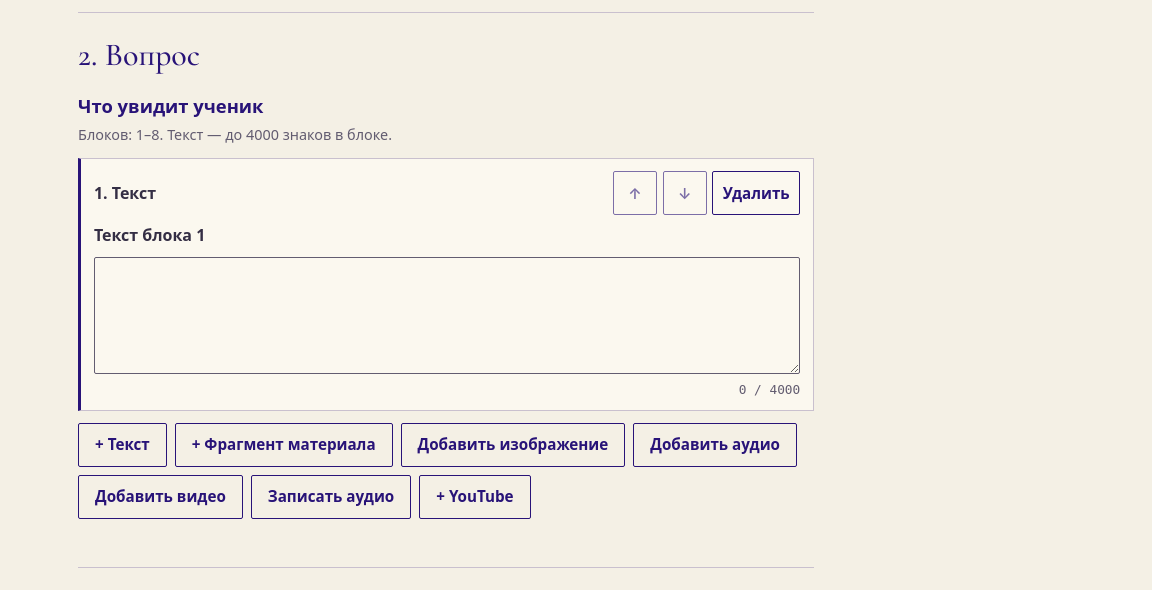
ExerciseAuthoringPageComponent › preview modes › any change of the form discards the old trial, including the feedback of an answered attempt
(page scrolled)
Step 1. Type "Столица Франции?" into the text box with id "free-response-prompt-text-0" → coordinates (447, 316), box [94,257,800,374]
(page scrolled)
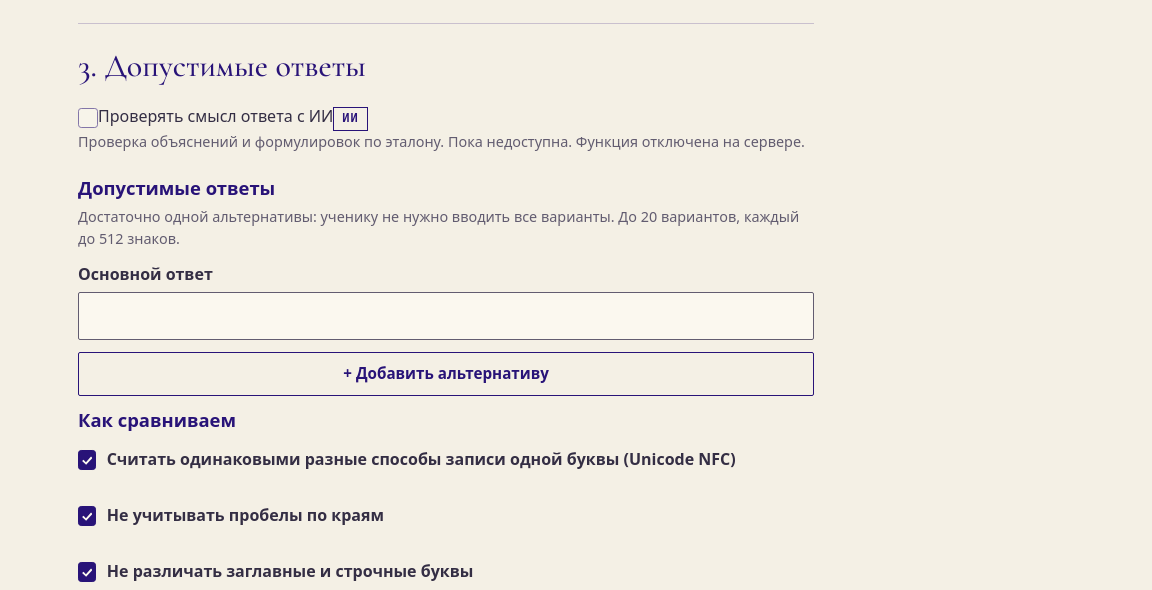
Step 2. Type "Париж" into the field labelled "Основной ответ" → coordinates (446, 316), box [78,292,814,340]
(page scrolled)
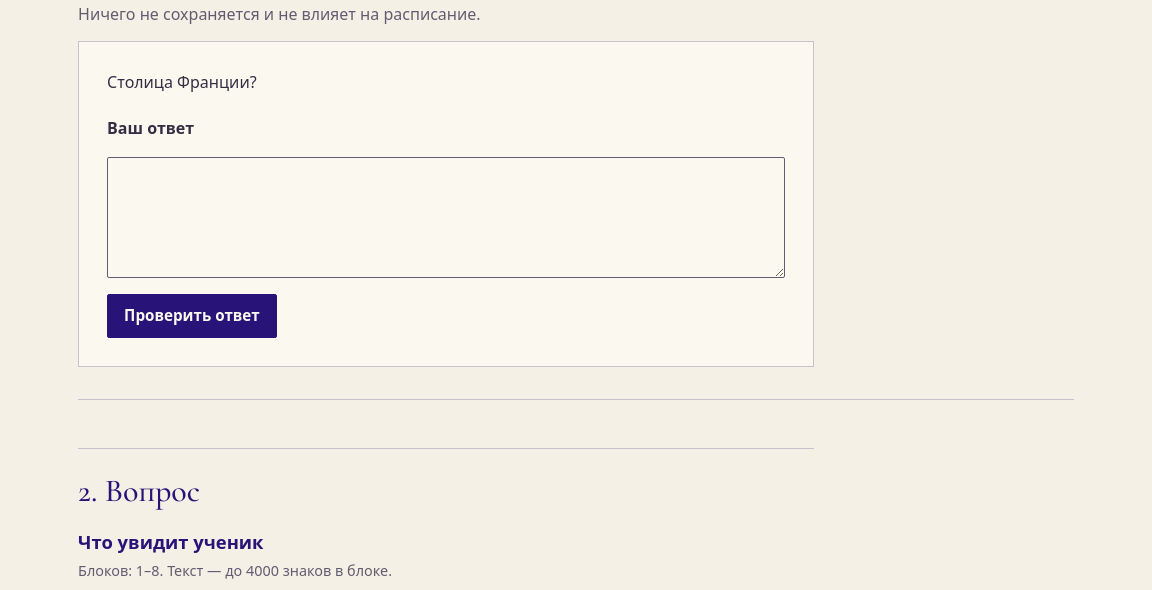
Step 3. Click the button "Проверить ответ" → coordinates (192, 316), box [107,294,277,338]
(page scrolled)
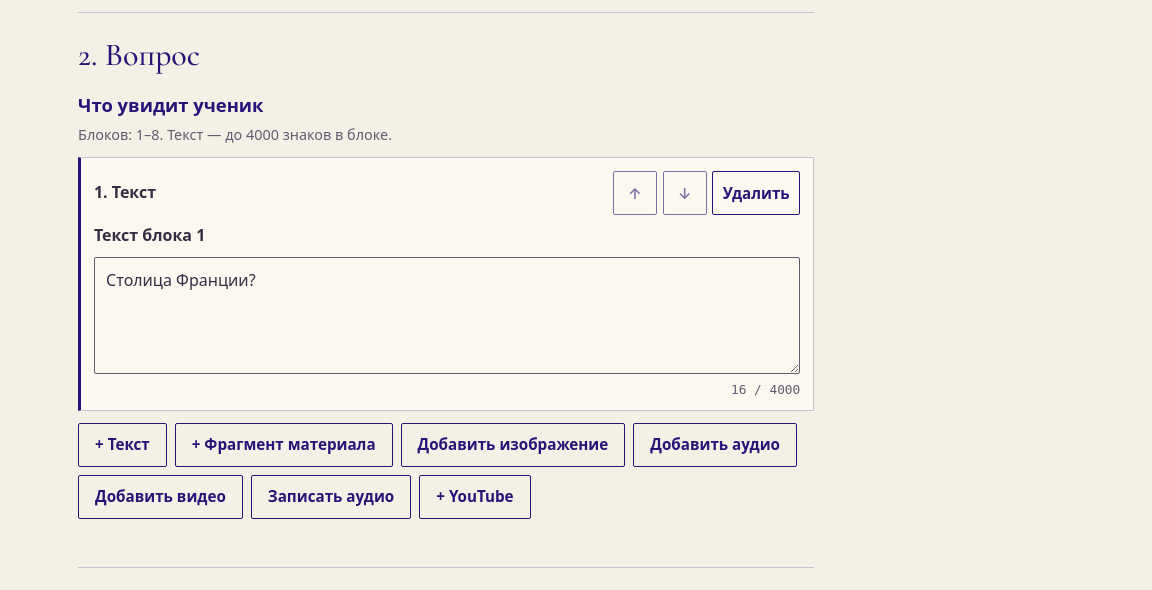
Step 4. Replace the text in the text box with id "free-response-prompt-text-0" with "Столица Германии?" → coordinates (447, 315), box [94,257,800,374]
(page scrolled)
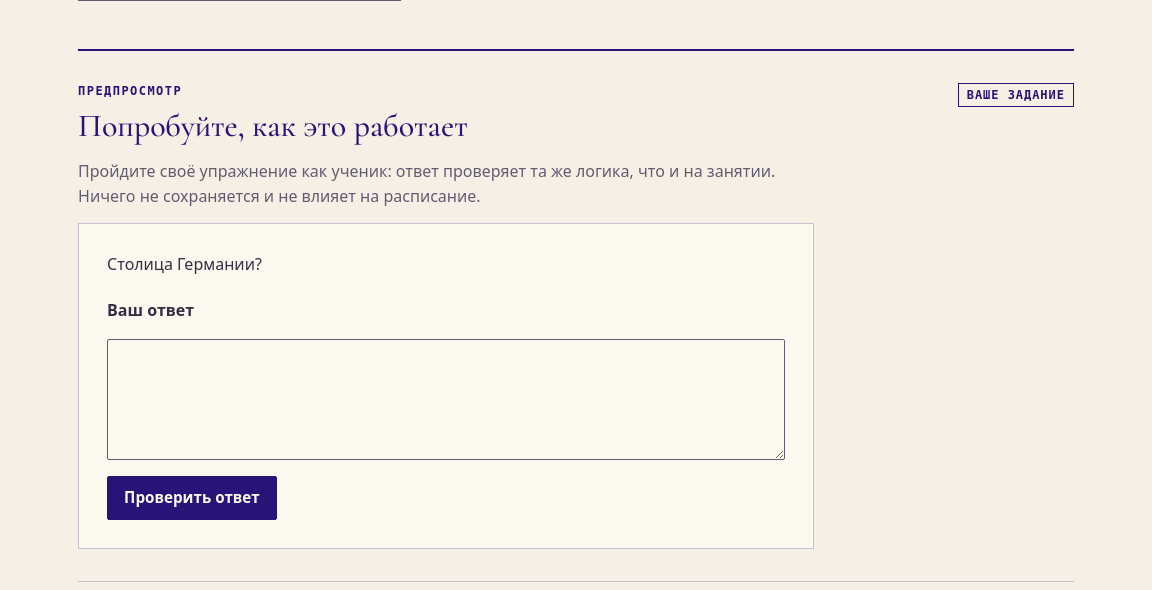
expect the element that starts with "Предпросмотр" shows "Столица Германии?": met, box [107,253,262,275]
